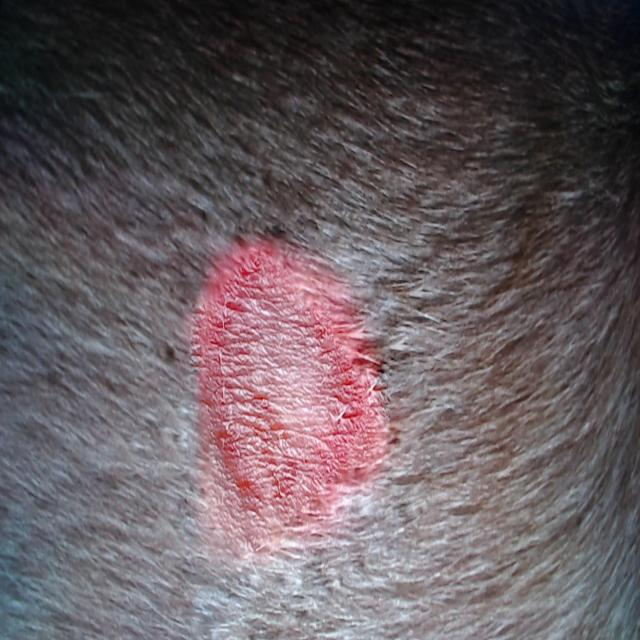ringworm: (189, 200, 407, 554)
